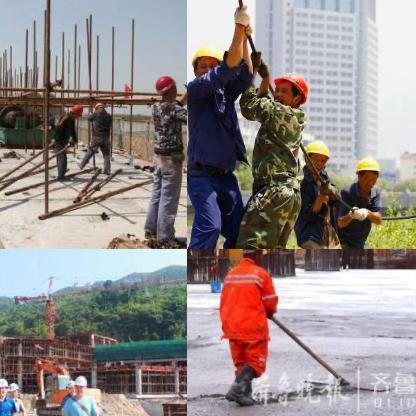Helmet: (266, 68, 310, 108), (350, 150, 382, 190), (187, 40, 221, 76), (300, 133, 330, 171), (152, 72, 176, 100), (238, 249, 266, 264), (74, 373, 86, 395), (68, 100, 82, 118), (63, 378, 74, 396), (8, 380, 18, 398), (0, 374, 7, 396), (92, 100, 104, 110)
